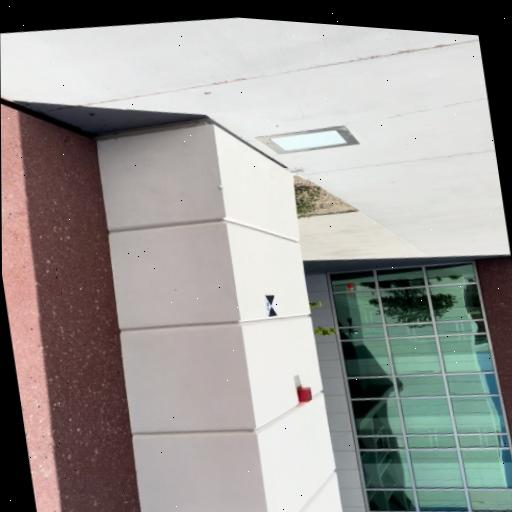target2: (264, 295, 277, 317)
